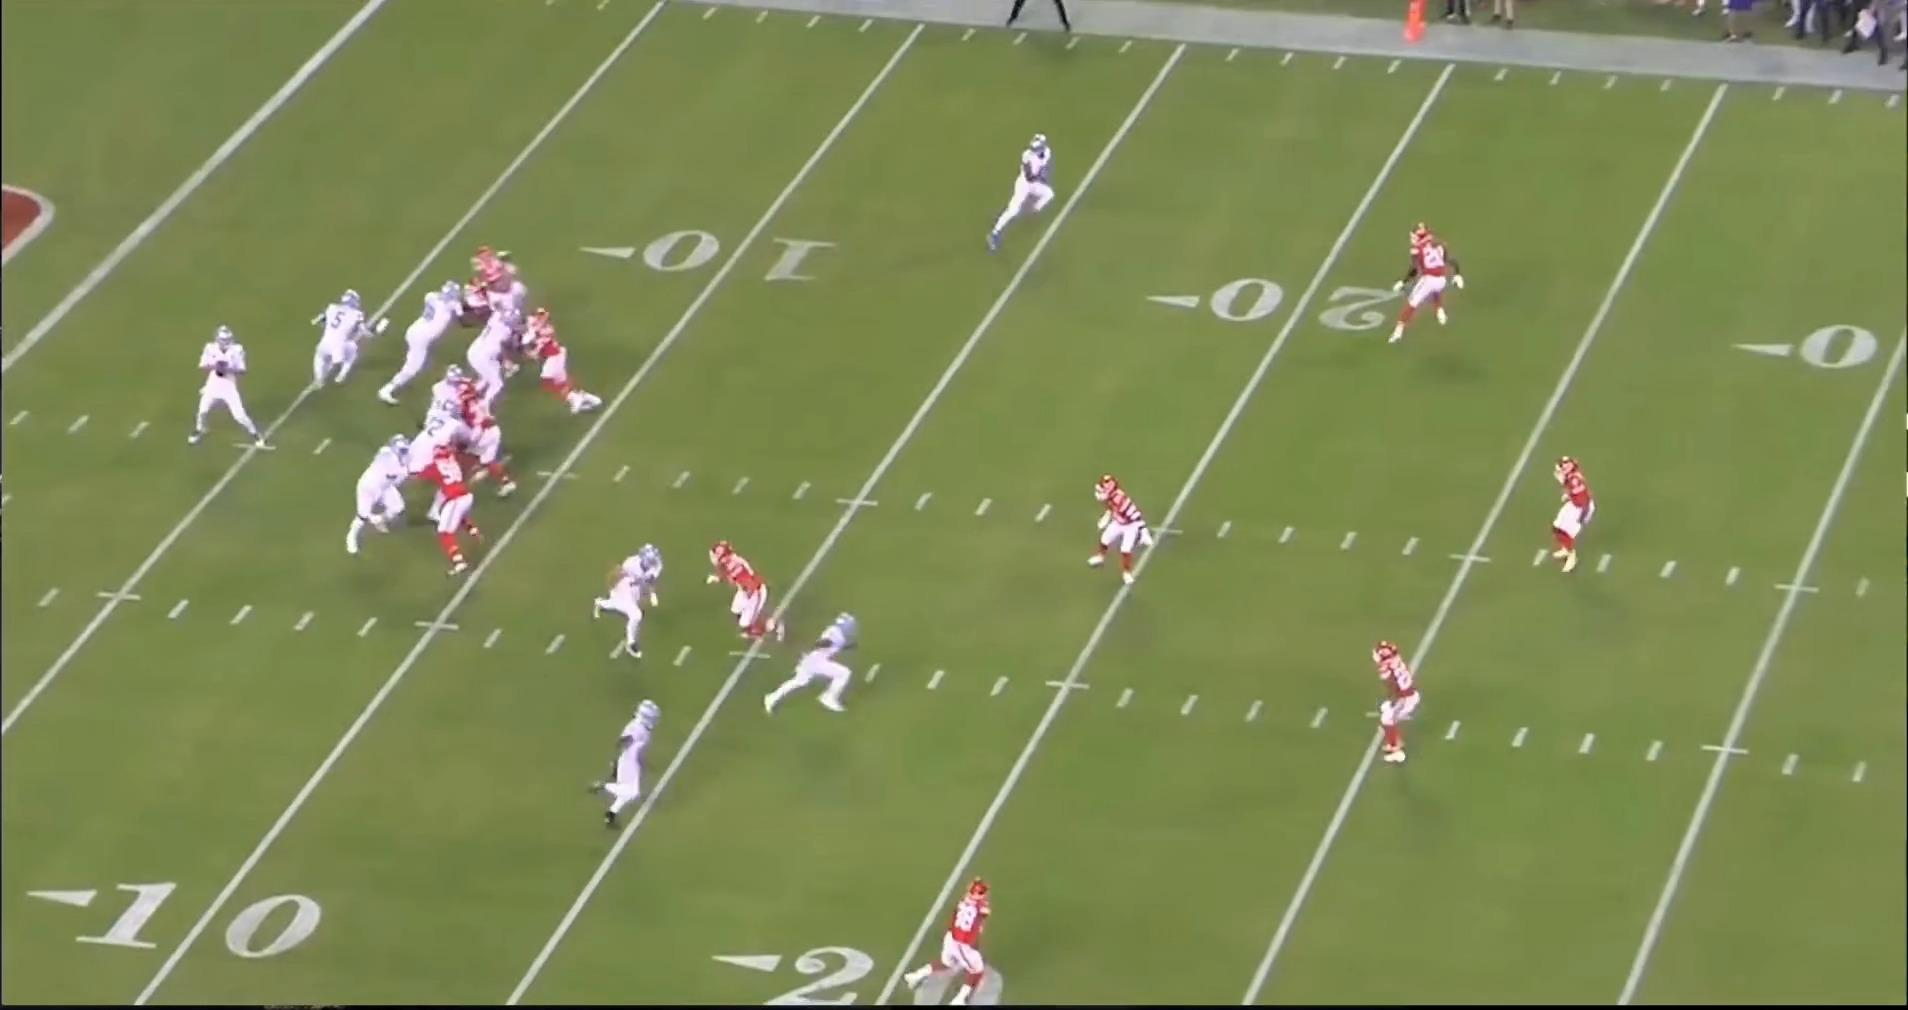player: (914, 880, 1009, 1009), (379, 282, 473, 410), (763, 606, 867, 719), (181, 322, 268, 452), (348, 433, 428, 560), (1382, 220, 1463, 345), (295, 291, 375, 417), (983, 129, 1063, 255), (399, 396, 479, 522), (709, 543, 794, 660), (599, 693, 673, 827), (511, 306, 597, 415), (589, 540, 666, 657), (414, 438, 478, 576), (450, 377, 519, 499), (1089, 476, 1159, 593), (1371, 636, 1429, 767), (1547, 458, 1601, 581), (474, 309, 528, 416), (424, 364, 476, 444), (470, 243, 527, 297), (458, 282, 497, 332)
ref: (1005, 0, 1084, 33)
